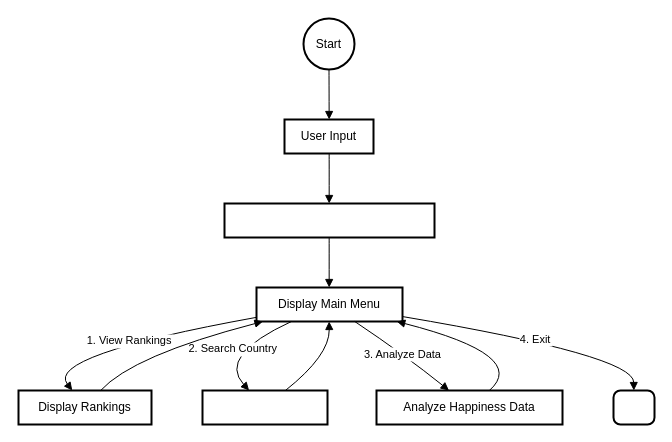
The diagram is 672 pixels wide and 442 high, and some of its shapes have lost their labels. The shapes that lost their labels are listed below. From the top down, each one's centre as x and y in pixels, then its label:
At point (329, 220): "Load World Happiness Data".
At point (264, 407): "Search Country".
At point (633, 407): "End".
